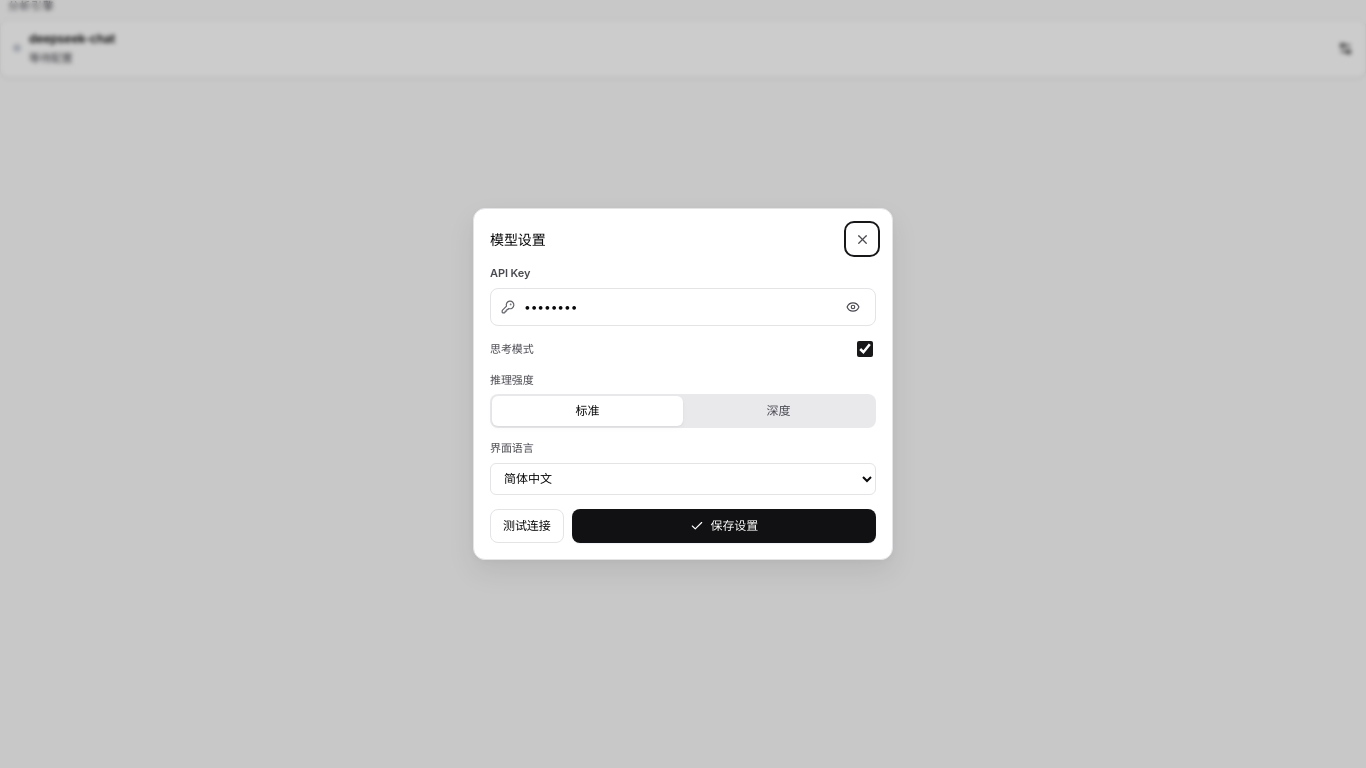
SettingsPanel › 连接测试超过 10 秒自动超时并提示重试
This screenshot has width=1366, height=768.
Click the button "测试连接". click: (527, 526)
box: left=490, top=509, right=564, bottom=543
Wait 10000 ms
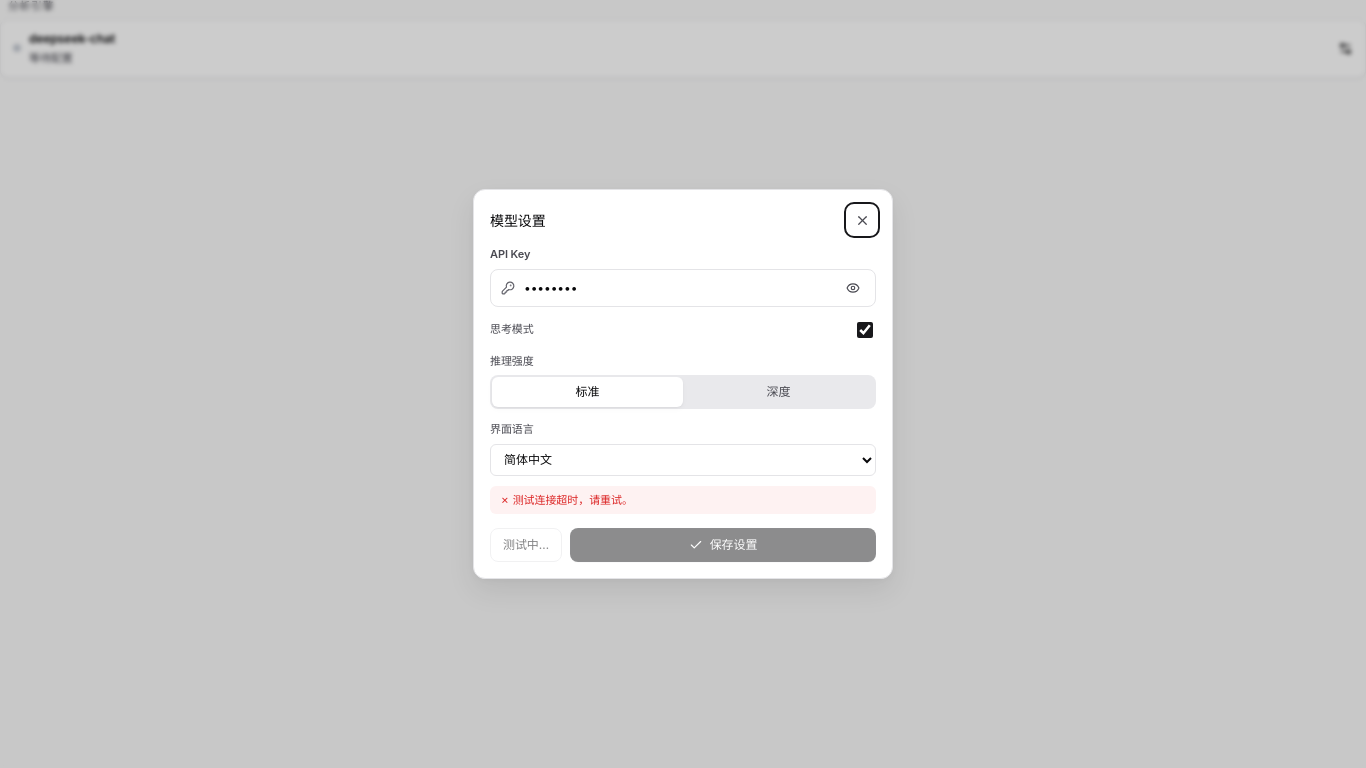
expect the message shows "测试连接超时，请重试。": met, box left=513, top=492, right=633, bottom=506
